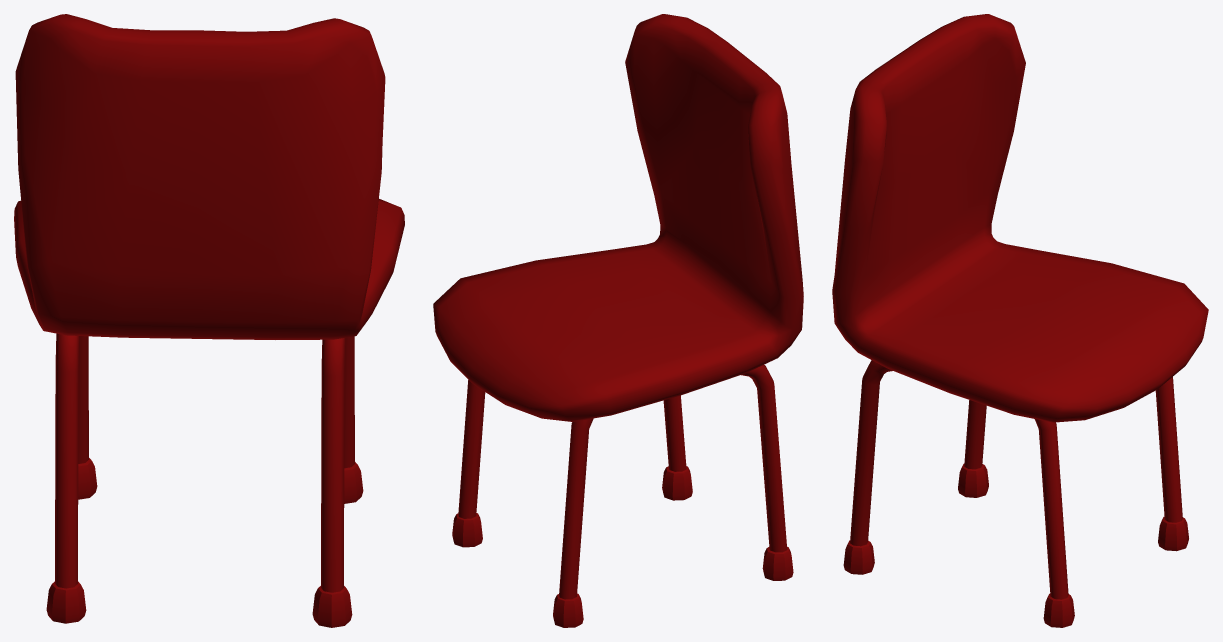
File: SM_chair_Living.fbx
3 renders of one model, left to right at view 1: azimuth 30°, elevation 25°; view 2: azimuth 150°, elevation 25°; view 3: azimuth 270°, elevation 25°, orthographic. The views are drawn at different scales.
Parts seen in each view (by area): view 1: chair; view 2: chair; view 3: chair.
Part boxes in pixels (x1=…): chair: x1=14, y1=14, x2=404, y2=627; chair: x1=433, y1=14, x2=803, y2=627; chair: x1=832, y1=14, x2=1208, y2=627.
Bounding box in the file's own units: 81.24 × 114 × 81.11.
